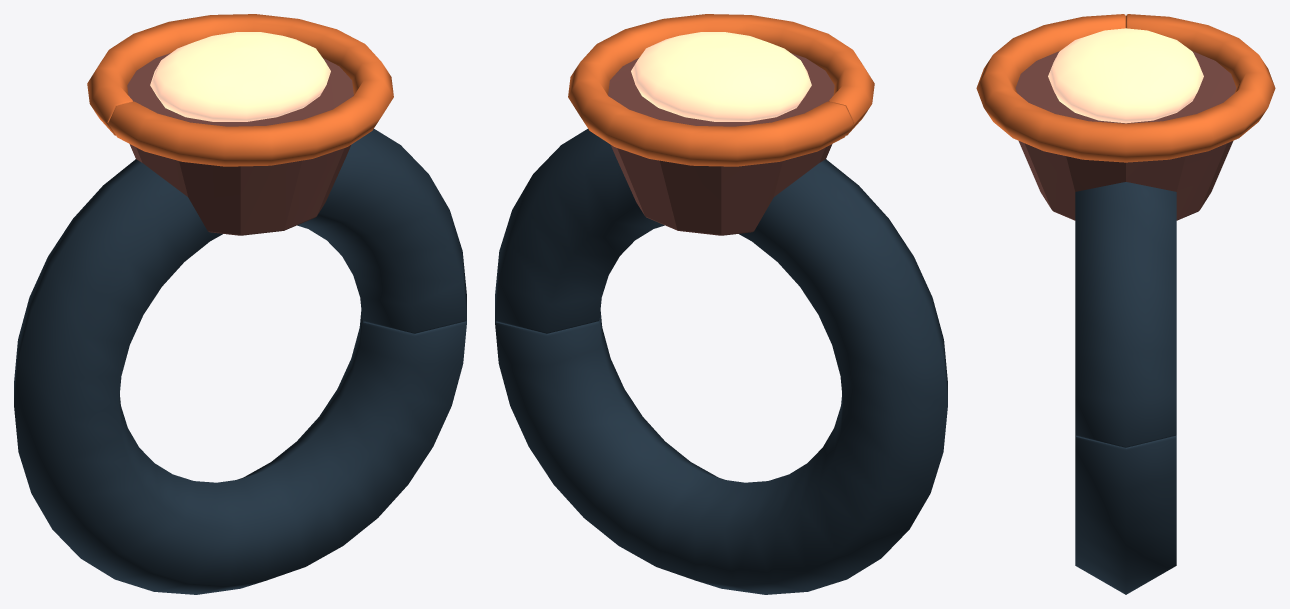
Rendered from item_080.glb.
3 renders of one model, left to right at view 1: azimuth 30°, elevation 25°; view 2: azimuth 150°, elevation 25°; view 3: azimuth 270°, elevation 25°, orthographic. The views are drawn at different scales.
Parts seen in each view (by area): view 1: Item_080_ember_crucible_ring; view 2: Item_080_ember_crucible_ring; view 3: Item_080_ember_crucible_ring.
Boxes of the visible parts, <box> form: Item_080_ember_crucible_ring: <box>14,14,466,594</box>; Item_080_ember_crucible_ring: <box>495,14,947,594</box>; Item_080_ember_crucible_ring: <box>976,14,1275,594</box>.
Size of the model in its own units: 0.3898 by 0.445 by 0.23.
